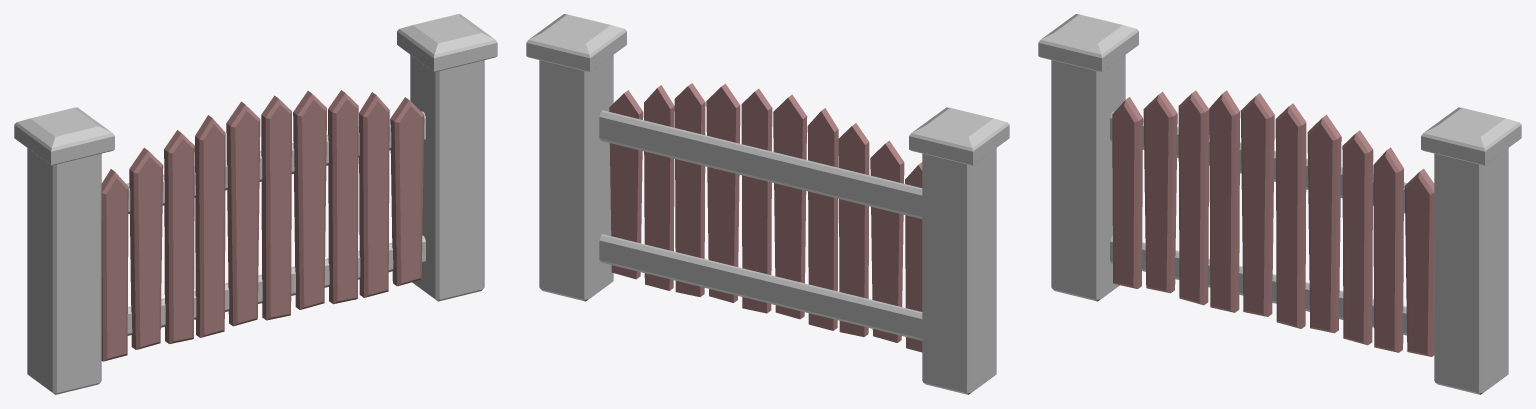
The model's file is fp_fence_b.glb.
3 renders of one model, left to right at view 1: azimuth 30°, elevation 25°; view 2: azimuth 150°, elevation 25°; view 3: azimuth 330°, elevation 25°, orthographic.
Bounding box in the file's own units: 0.9986 × 0.5515 × 0.143.
